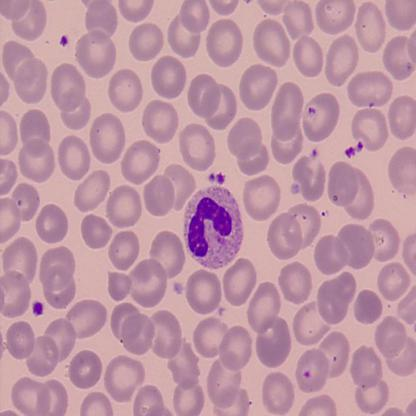Band Neutrophil: (181, 184, 245, 271)
